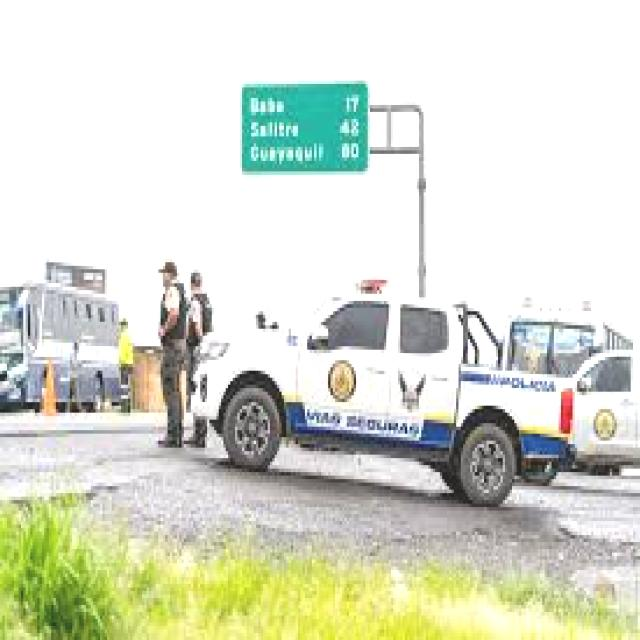BUS: (0, 279, 130, 411)
CMT: (197, 289, 574, 509)
